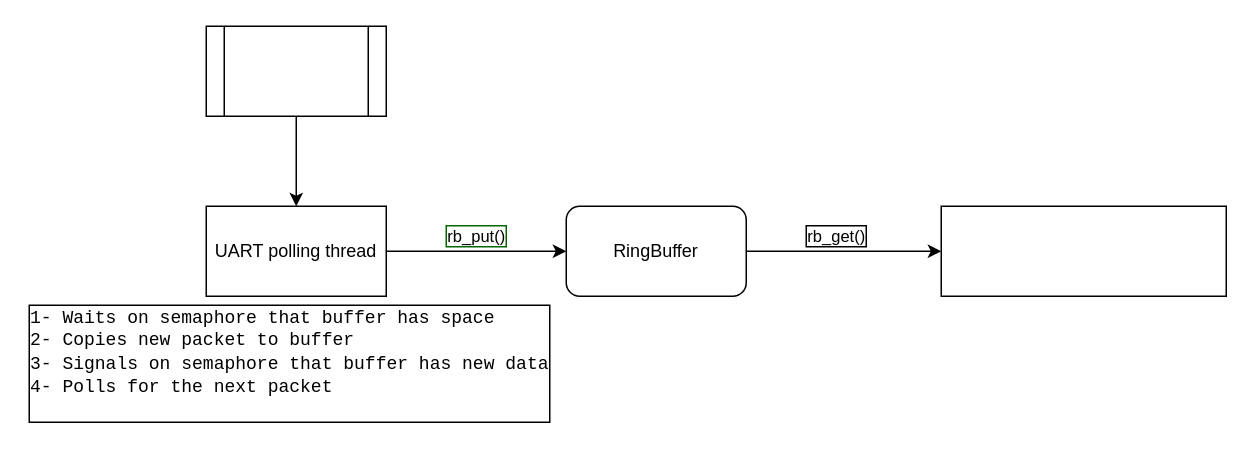
This 1253x449 diagram has some shape labels left out. The box of each missing label's shape, as (x1, y1, x2, y2) in pixels:
Motor command processor thread: (940, 205, 1226, 296)
UART RX: (205, 25, 386, 116)
